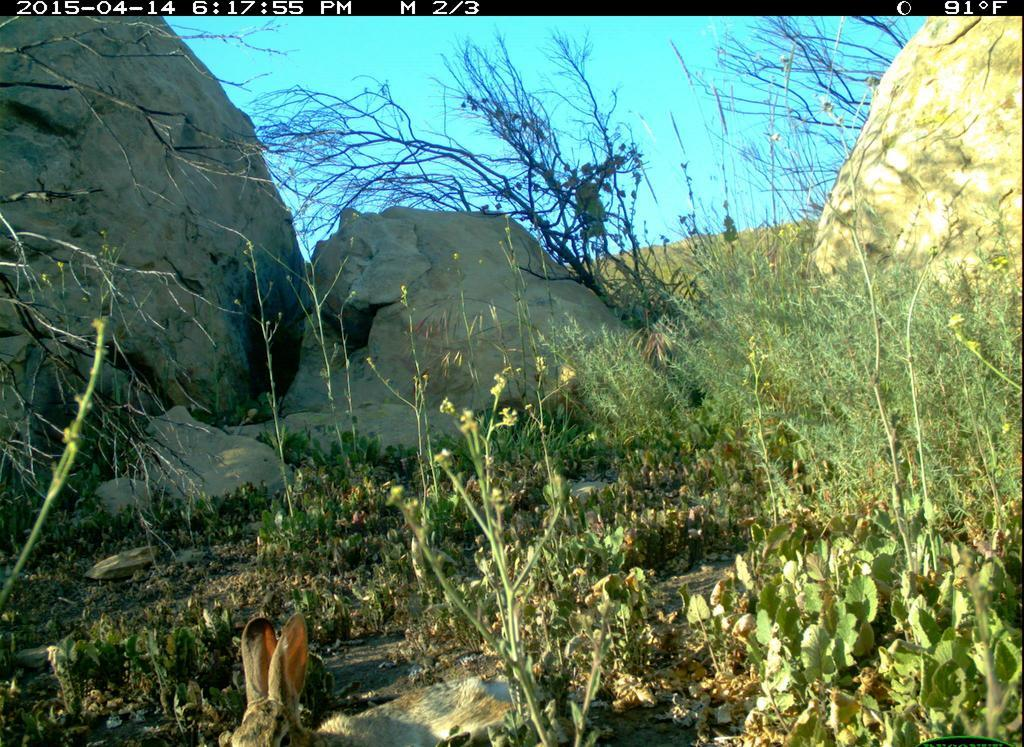rabbit: (223, 612, 438, 740)
